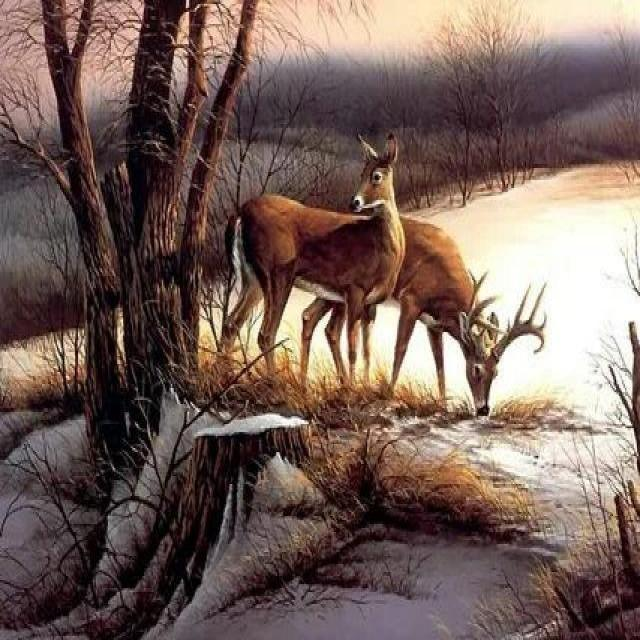deer: (334, 168, 520, 456), (228, 159, 421, 398)
